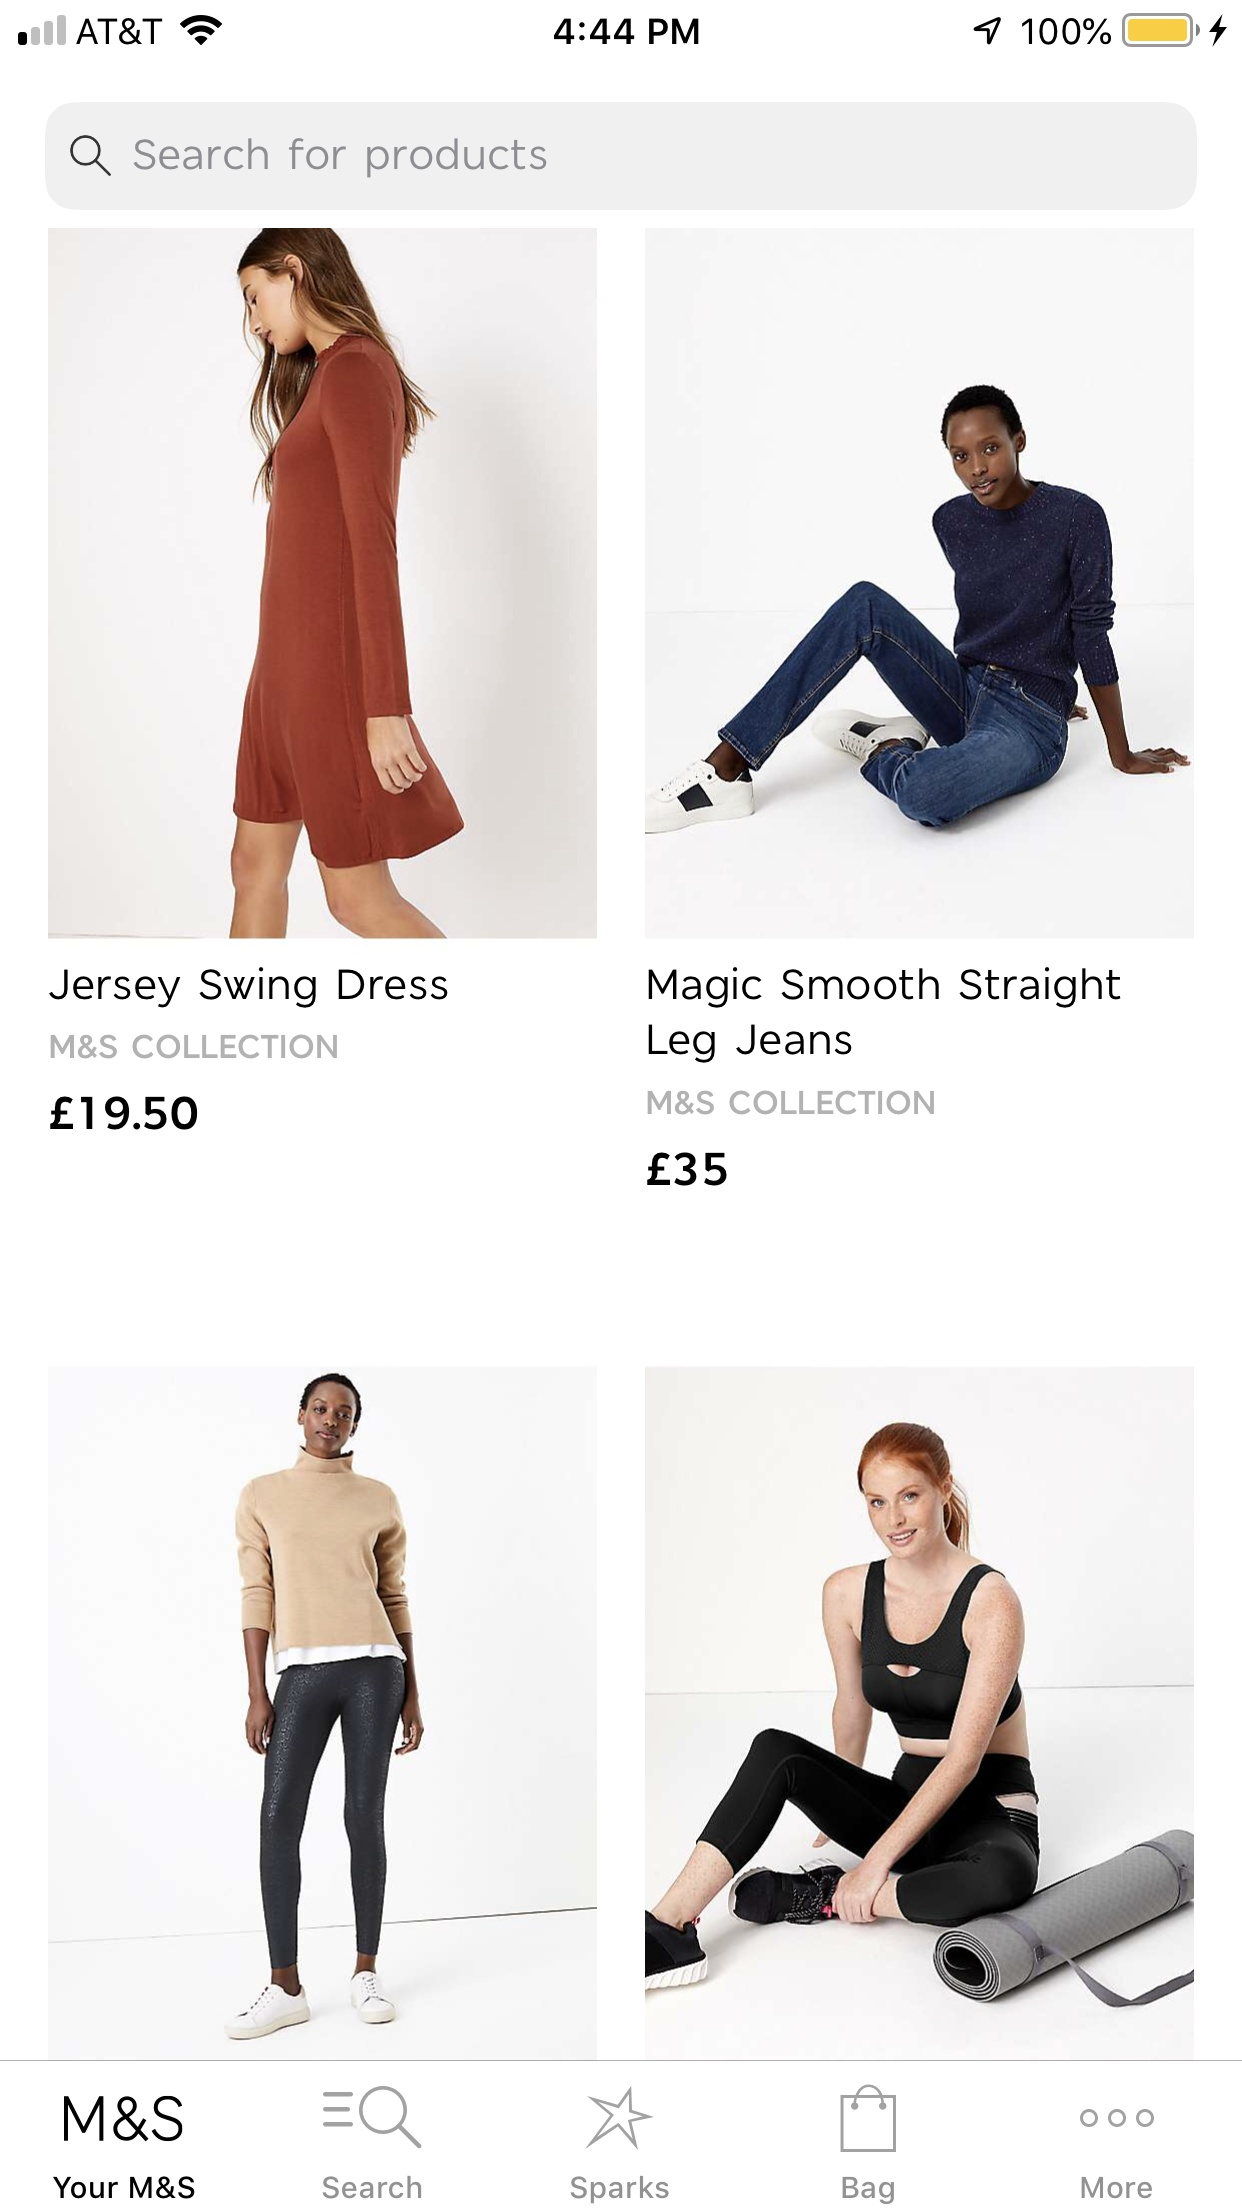EditText: (45, 102, 1198, 211)
Icon: (323, 2085, 423, 2149), (585, 2087, 655, 2150), (840, 2084, 898, 2153), (70, 136, 114, 177)
Image: (49, 227, 597, 939), (645, 229, 1193, 940), (49, 1365, 597, 2059), (645, 1366, 1193, 2059)
PageIndicator: (1080, 2108, 1156, 2128)
Text: (648, 968, 1121, 1065), (133, 138, 547, 179), (49, 968, 449, 1008), (52, 1033, 340, 1060), (648, 1090, 936, 1116), (64, 2094, 183, 2141), (50, 1095, 199, 1131), (53, 2176, 196, 2200), (572, 2175, 670, 2203), (648, 1153, 728, 1187), (323, 2175, 423, 2199), (1081, 2176, 1153, 2199), (842, 2176, 895, 2205)
UpperTaskBar: (2, 2, 1242, 49)
